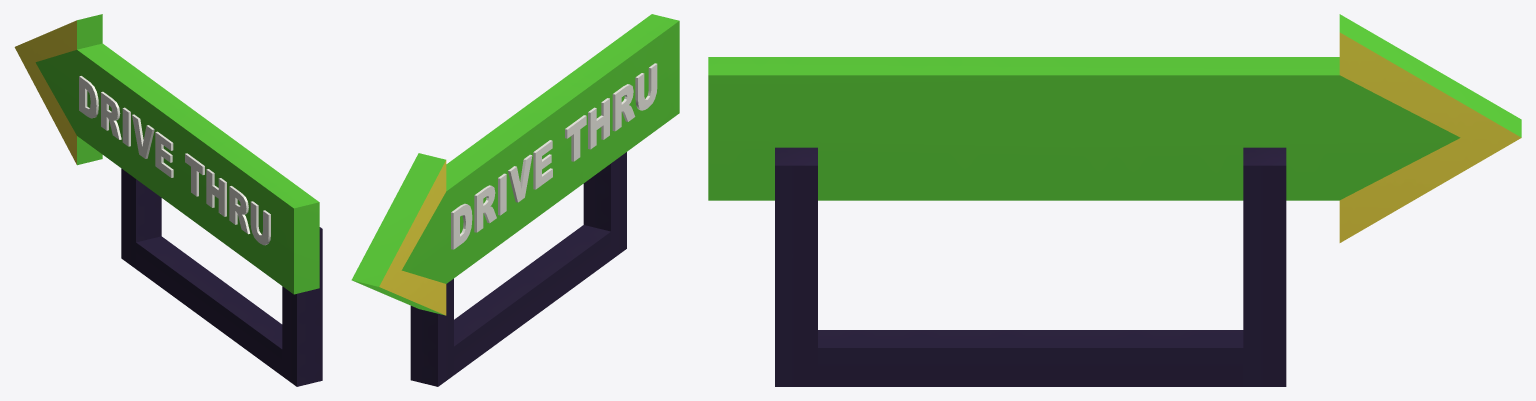
The model's file is SignArrow_Entrance.fbx.
The picture shows the model from 3 angles, left to right: view 1: azimuth 30°, elevation 25°; view 2: azimuth 150°, elevation 25°; view 3: azimuth 270°, elevation 25°; orthographic projection. The views are drawn at different scales.
Parts seen in each view (by area): view 1: SignArrow_Entrance; view 2: SignArrow_Entrance; view 3: SignArrow_Entrance.
Boxes of the visible parts, x1,y1,x2,y2 form: SignArrow_Entrance: (14, 14, 322, 386); SignArrow_Entrance: (351, 14, 679, 386); SignArrow_Entrance: (708, 14, 1521, 386).
Bounding box in the file's own units: 44.99 × 184 × 404.
